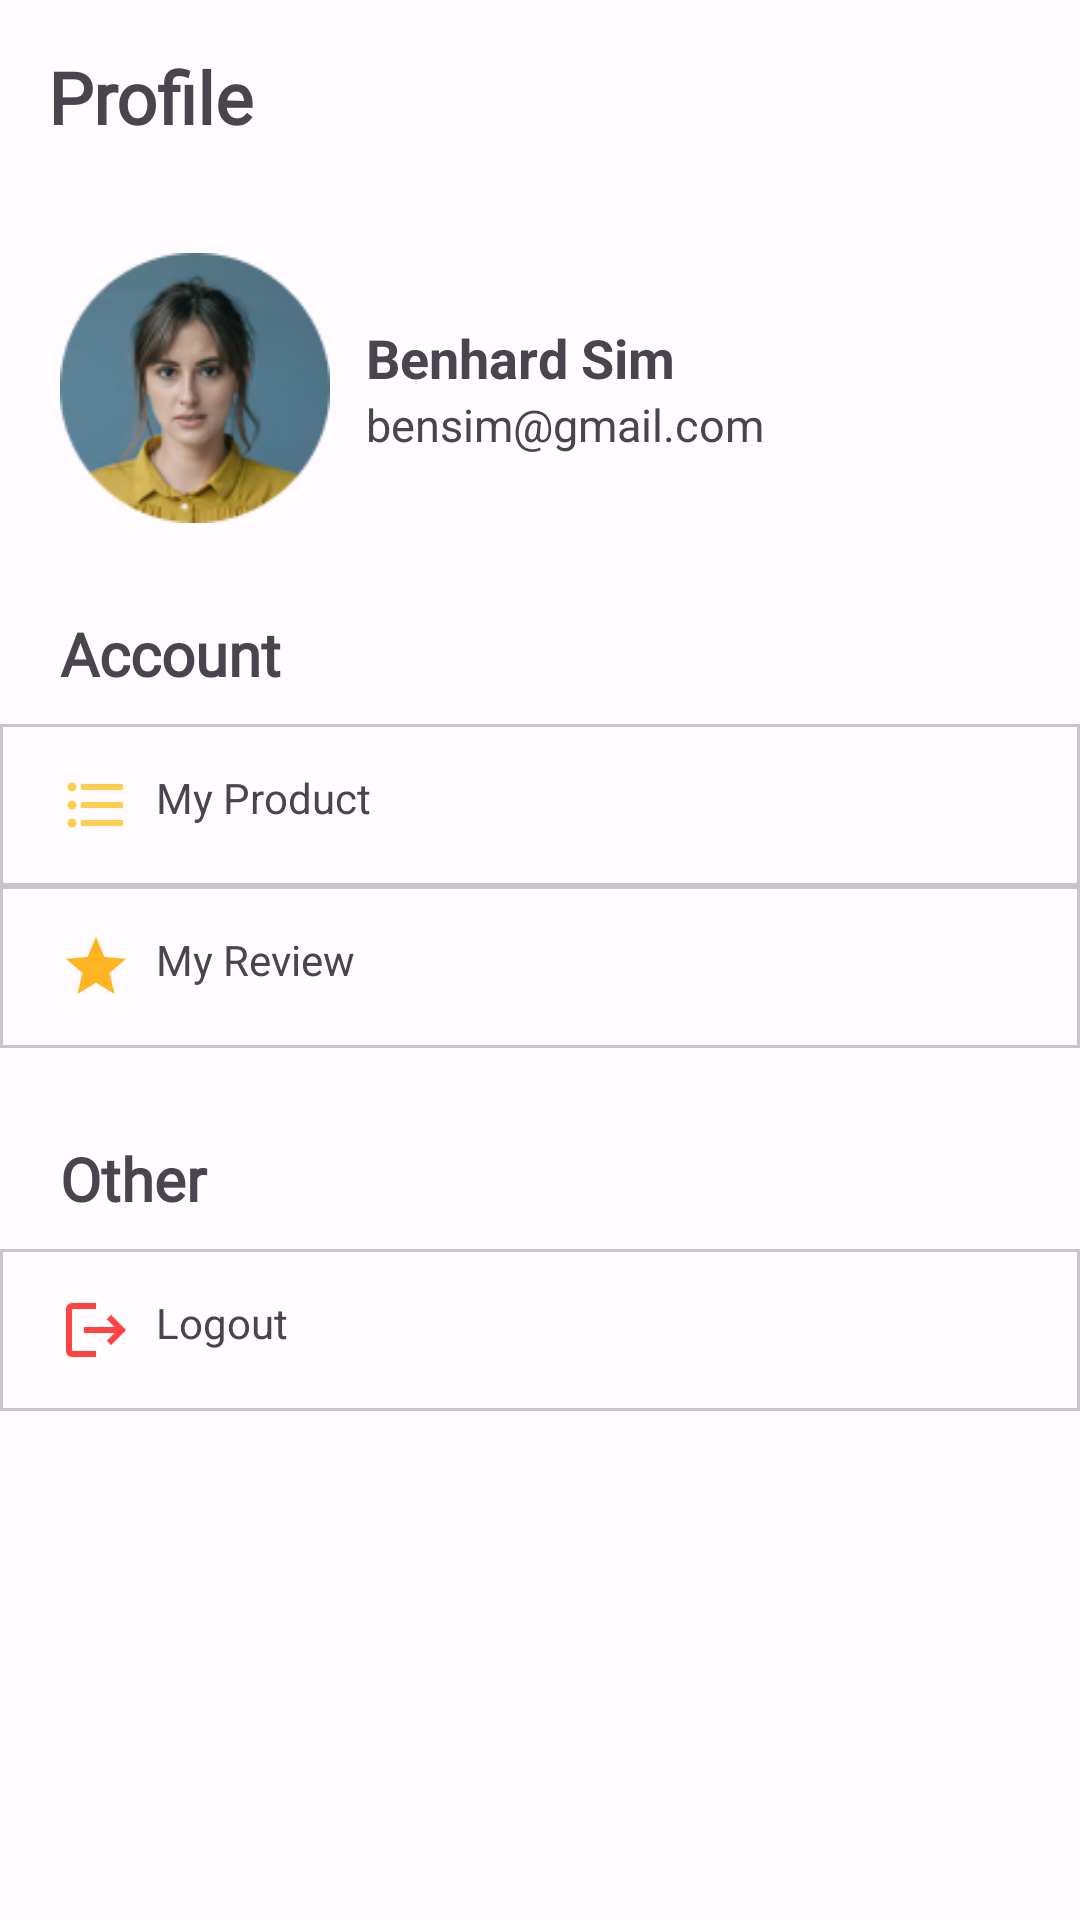

Named icons in this screenshot (1080px×1920px) and their centers, (x,y):
format list bulleted: (95,805)
star: (96,965)
